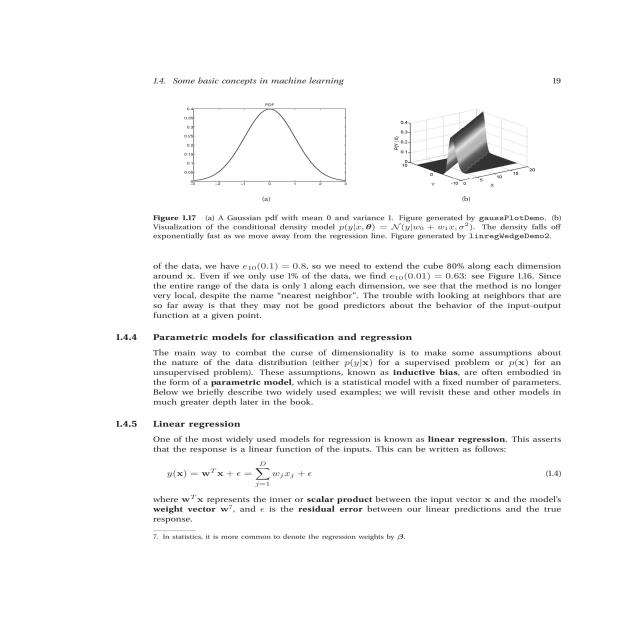diagram: (130, 87, 589, 248)
